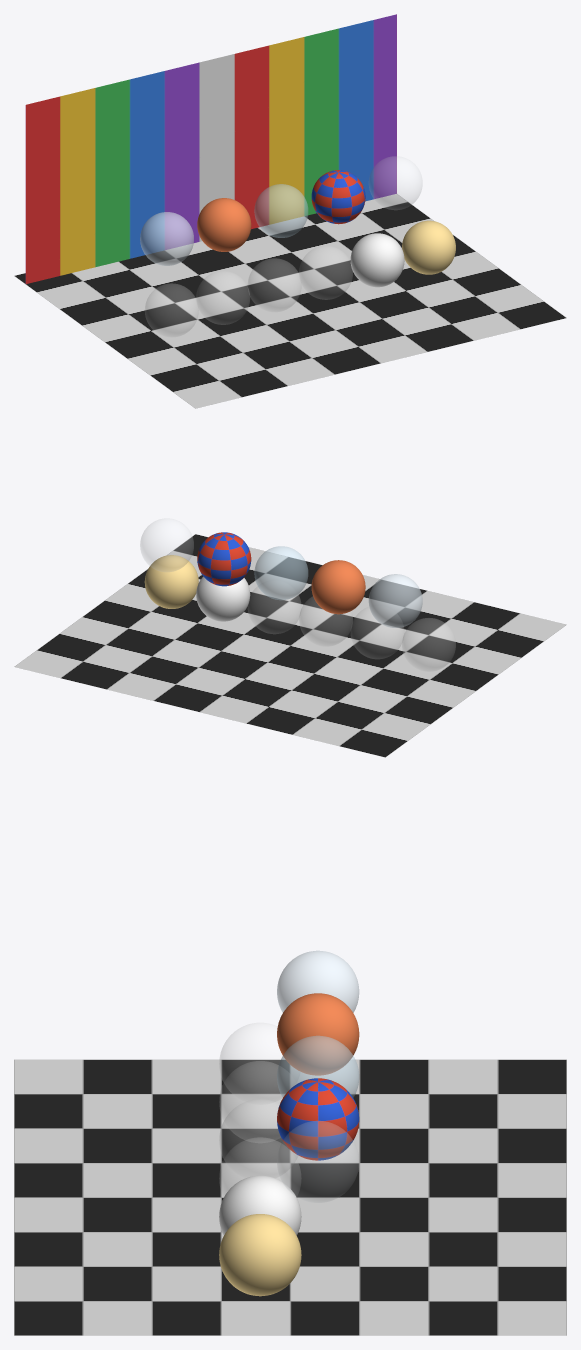
Rendered from dielectric_material_test_scene.gltf.
3 renders of one model, top to bottom at view 1: azimuth 30°, elevation 25°; view 2: azimuth 150°, elevation 25°; view 3: azimuth 270°, elevation 25°, orthographic. The views are drawn at different scales.
Parts seen in each view (by area): view 1: BackWall_Stripes, Floor_Checker, Perfect_Mirror, Textured_Base_MR_Normal, Partial_Metallic_0.50, Rough_Gold_Metal, Partial_Transmission_0.50, Mixed_Metal0.35_Transmission0.65, Transmission_Texture_Gradient, Smooth_Clear_Glass_IOR_1.52, Tinted_Green_Glass_Volume, Rough_Frosted_Glass_r0.35_IOR_1.52 (+1 smaller); view 2: Floor_Checker, Textured_Base_MR_Normal, Partial_Metallic_0.50, Mixed_Metal0.35_Transmission0.65, Rough_Gold_Metal, Partial_Transmission_0.50, Smooth_Clear_Glass_IOR_1.52, Transmission_Texture_Gradient, Perfect_Mirror, Rough_Frosted_Glass_r0.35_IOR_1.52, Tinted_Green_Glass_Volume, Smooth_Water_IOR_1.333; view 3: Floor_Checker, Textured_Base_MR_Normal, Rough_Gold_Metal, Partial_Metallic_0.50, Transmission_Texture_Gradient, Smooth_Clear_Glass_IOR_1.52, Smooth_Water_IOR_1.333, Rough_Frosted_Glass_r0.35_IOR_1.52, Partial_Transmission_0.50, Mixed_Metal0.35_Transmission0.65, Perfect_Mirror, Tinted_Green_Glass_Volume.
Boxes of the visible parts, left/top/right/bottom form: BackWall_Stripes: left=25, top=14, right=396, bottom=283; Floor_Checker: left=14, top=194, right=566, bottom=408; Perfect_Mirror: left=350, top=233, right=404, bottom=287; Textured_Base_MR_Normal: left=311, top=170, right=365, bottom=224; Partial_Metallic_0.50: left=197, top=198, right=251, bottom=251; Rough_Gold_Metal: left=402, top=220, right=455, bottom=274; Partial_Transmission_0.50: left=140, top=212, right=193, bottom=265; Mixed_Metal0.35_Transmission0.65: left=254, top=184, right=308, bottom=237; Transmission_Texture_Gradient: left=369, top=156, right=422, bottom=209; Smooth_Clear_Glass_IOR_1.52: left=145, top=283, right=198, bottom=337; Tinted_Green_Glass_Volume: left=299, top=246, right=352, bottom=299; Rough_Frosted_Glass_r0.35_IOR_1.52: left=196, top=271, right=249, bottom=324; Floor_Checker: left=14, top=534, right=566, bottom=757; Textured_Base_MR_Normal: left=197, top=532, right=251, bottom=586; Partial_Metallic_0.50: left=311, top=560, right=365, bottom=614; Mixed_Metal0.35_Transmission0.65: left=254, top=546, right=308, bottom=600; Rough_Gold_Metal: left=144, top=555, right=198, bottom=608; Partial_Transmission_0.50: left=368, top=574, right=422, bottom=627; Smooth_Clear_Glass_IOR_1.52: left=402, top=618, right=455, bottom=671; Transmission_Texture_Gradient: left=140, top=518, right=193, bottom=571; Perfect_Mirror: left=196, top=576, right=250, bottom=621; Rough_Frosted_Glass_r0.35_IOR_1.52: left=351, top=607, right=404, bottom=658; Tinted_Green_Glass_Volume: left=248, top=586, right=301, bottom=633; Smooth_Water_IOR_1.333: left=299, top=597, right=352, bottom=646; Floor_Checker: left=14, top=1059, right=566, bottom=1335; Textured_Base_MR_Normal: left=277, top=1078, right=359, bottom=1160; Rough_Gold_Metal: left=219, top=1214, right=301, bottom=1296; Partial_Metallic_0.50: left=277, top=993, right=359, bottom=1075; Transmission_Texture_Gradient: left=277, top=1121, right=358, bottom=1202; Smooth_Clear_Glass_IOR_1.52: left=219, top=1023, right=282, bottom=1101; Smooth_Water_IOR_1.333: left=219, top=1099, right=297, bottom=1177; Rough_Frosted_Glass_r0.35_IOR_1.52: left=219, top=1061, right=282, bottom=1139; Partial_Transmission_0.50: left=277, top=950, right=359, bottom=1012; Mixed_Metal0.35_Transmission0.65: left=277, top=1035, right=359, bottom=1097; Perfect_Mirror: left=219, top=1175, right=301, bottom=1235; Tinted_Green_Glass_Volume: left=219, top=1137, right=300, bottom=1196.
Size of the model in its own units: 13 by 6 by 11.
Materials: 14 (3 with a texture image).
